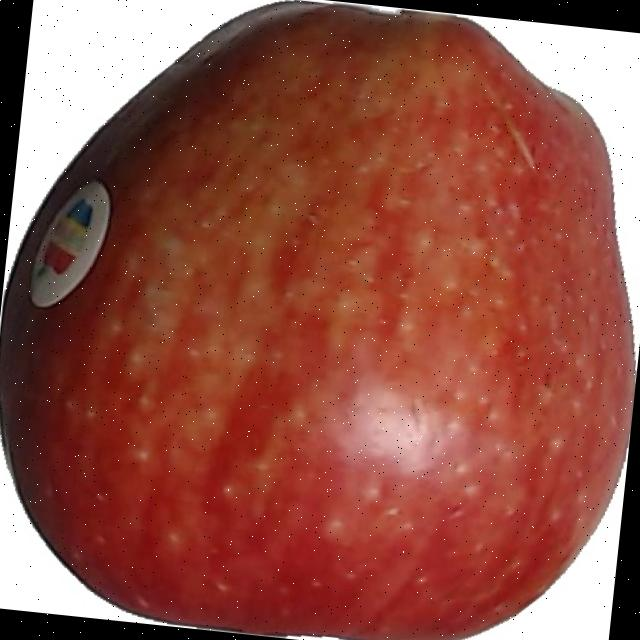apple: (0, 0, 638, 640)
